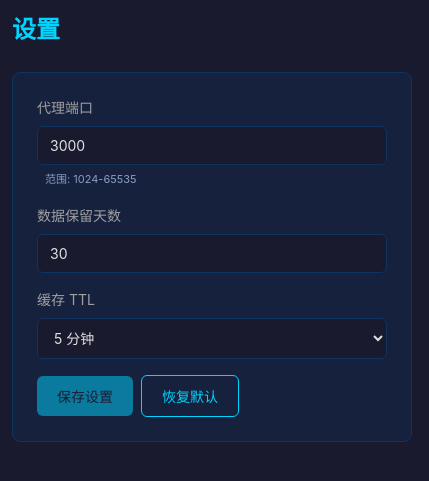
Settings › 天数 >365 显示错误
Step 1. Replace the text in the number field labelled "数据保留天数" with "400" → (212, 254), box [37, 234, 387, 273]
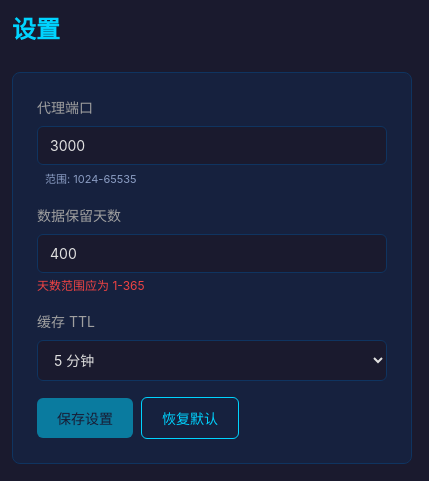
Result: the text "天数范围应为 1-365" is shown at [37, 278, 145, 293]
